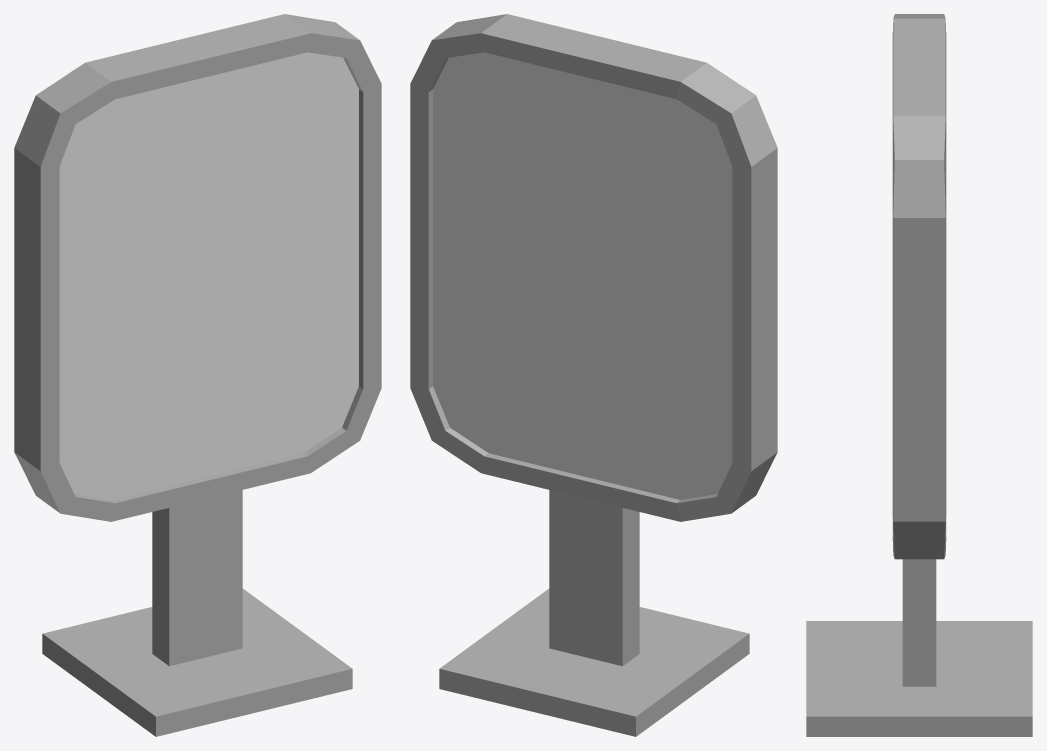
File: shemaSubway.fbx
3 renders of one model, left to right at view 1: azimuth 30°, elevation 25°; view 2: azimuth 150°, elevation 25°; view 3: azimuth 270°, elevation 25°, orthographic.
Visible parts, largest first — view 1: Куб; view 2: Куб; view 3: Куб.
Boxes of the visible parts, x1,y1,x2,y2 form: Куб: (14, 14, 381, 736); Куб: (410, 14, 777, 736); Куб: (806, 14, 1032, 736).
Size of the model in its own units: 1.13 by 1.97 by 0.6487.
